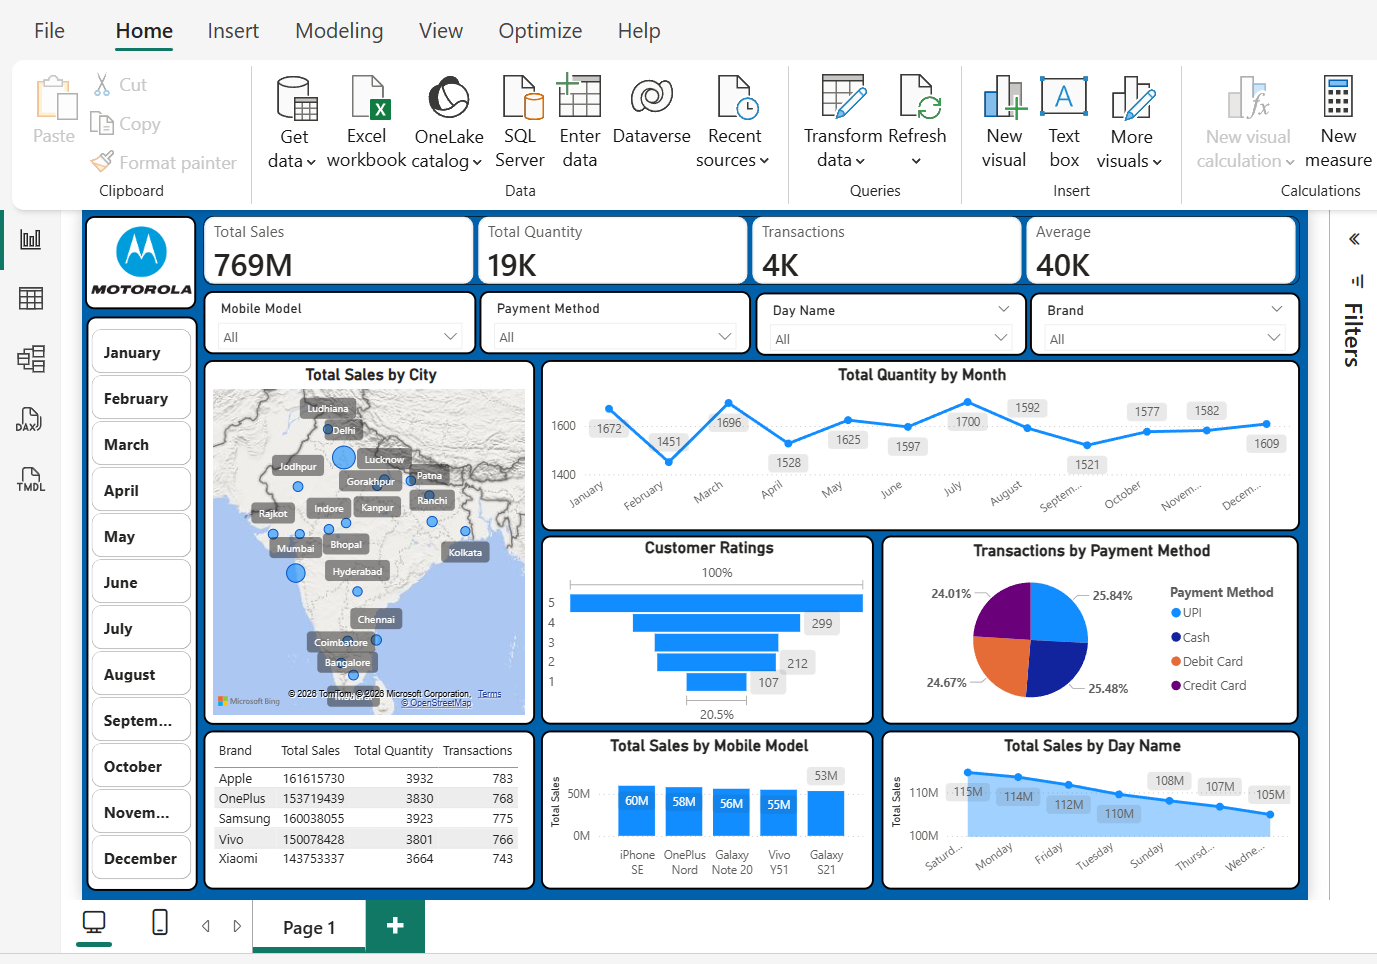

What the dashboard file says about the page in this screenshot:
{"tool":"powerbi","page":{"name":"Page 1","canvas":[1280,720],"ordinal":0},"visuals":[{"type":"shape","box":[3.1,6.3,115.8,97],"z":0},{"type":"shape","box":[4.7,111.1,115.8,599.5],"z":1000},{"type":"advancedSlicerVisual","fields":{"Values":["Sheet1.Date.Variation.Date Hierarchy.Month"]},"box":[4.7,119,114.3,590.1],"z":2000},{"type":"cardVisual","fields":{"Data":["Sales_Data.Total Sales","Sales_Data.Total Quantity","Sales_Data.Transactions","Sales_Data.Average"]},"box":[126.8,6.3,1144.2,72],"z":3000},{"type":"map","fields":{"Category":["Sales_Data.City"],"Size":["Sales_Data.Total Sales"]},"box":[126.8,156.5,345.9,380.3],"z":4000},{"type":"lineChart","fields":{"Y":["Sales_Data.Total Quantity"],"Category":["Sales_Data.Date.Variation.Date Hierarchy.Month","Sales_Data.Date.Variation.Date Hierarchy.Day"]},"box":[479,156.5,792,178.4],"z":5000},{"type":"clusteredColumnChart","fields":{"Category":["Sales_Data.Mobile Model"],"Y":["Sales_Data.Total Sales"]},"box":[479,543.1,347.5,165.9],"z":6000},{"type":"pieChart","fields":{"Y":["Sales_Data.Transactions"],"Category":["Sales_Data.Payment Method"]},"box":[834.3,339.7,435.1,197.2],"z":7000},{"type":"funnel","title":"Customer Ratings","fields":{"Category":["Sales_Data.Customer Ratings"],"Y":["CountNonNull(Sales_Data.Customer Ratings)"]},"box":[479,339.7,347.5,197.2],"z":8000},{"type":"areaChart","fields":{"Category":["Sales_Data.Day Name.1"],"Y":["Sales_Data.Total Sales"]},"box":[834.3,543.1,436.7,165.9],"z":9000},{"type":"tableEx","fields":{"Values":["Sales_Data.Brand","Sales_Data.Total Sales","Sales_Data.Total Quantity","Sales_Data.Transactions"]},"box":[126.8,543.1,345.9,165.9],"z":10000},{"type":"slicer","fields":{"Values":["Sales_Data.Mobile Model"]},"box":[126.8,84.5,284.9,65.7],"z":11000},{"type":"slicer","fields":{"Values":["Sales_Data.Brand"]},"box":[989.2,86.1,281.7,65.7],"z":12000},{"type":"slicer","fields":{"Values":["Sales_Data.Payment Method"]},"box":[414.8,84.5,283.3,65.7],"z":13000},{"type":"slicer","fields":{"Values":["Sales_Data.Day Name.1"]},"box":[702.8,86.1,283.3,65.7],"z":14000},{"type":"image","box":[6.3,0,109.6,104.9],"z":15000}]}

Visuals, with their boxes on the page's 1280x720 design canvas (x1, y1, x2, y2). These are canvas units, not pixel positions in the 1377x964 screenshot, which may show the page scaled, cropped or inside an application window:
shape: left=3, top=6, right=119, bottom=103
shape: left=5, top=111, right=120, bottom=711
advancedSlicerVisual - Sheet1.Date.Variation.Date Hierarchy.Month: left=5, top=119, right=119, bottom=709
cardVisual - Sales_Data.Total Sales x Sales_Data.Total Quantity: left=127, top=6, right=1271, bottom=78
map - Sales_Data.City x Sales_Data.Total Sales: left=127, top=156, right=473, bottom=537
lineChart - Sales_Data.Total Quantity x Sales_Data.Date.Variation.Date Hierarchy.Month: left=479, top=156, right=1271, bottom=335
clusteredColumnChart - Sales_Data.Mobile Model x Sales_Data.Total Sales: left=479, top=543, right=826, bottom=709
pieChart - Sales_Data.Transactions x Sales_Data.Payment Method: left=834, top=340, right=1269, bottom=537
"Customer Ratings" funnel: left=479, top=340, right=826, bottom=537
areaChart - Sales_Data.Day Name.1 x Sales_Data.Total Sales: left=834, top=543, right=1271, bottom=709
tableEx - Sales_Data.Brand x Sales_Data.Total Sales: left=127, top=543, right=473, bottom=709
slicer - Sales_Data.Mobile Model: left=127, top=84, right=412, bottom=150
slicer - Sales_Data.Brand: left=989, top=86, right=1271, bottom=152
slicer - Sales_Data.Payment Method: left=415, top=84, right=698, bottom=150
slicer - Sales_Data.Day Name.1: left=703, top=86, right=986, bottom=152
image: left=6, top=0, right=116, bottom=105
